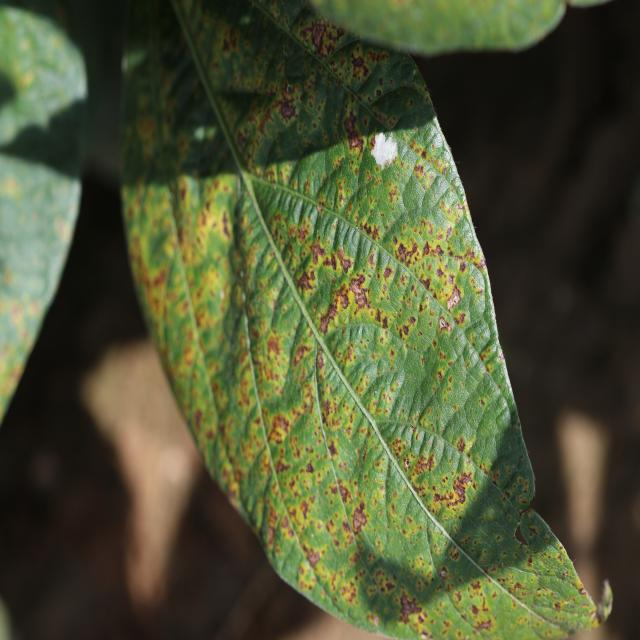Bacterial_Blight: (146, 223, 217, 415), (128, 184, 188, 323), (403, 432, 482, 518), (182, 205, 232, 331), (273, 354, 316, 435), (385, 222, 435, 290), (314, 468, 356, 547), (363, 254, 405, 316), (448, 580, 496, 632), (284, 473, 322, 537), (337, 41, 385, 89), (298, 15, 340, 62), (347, 281, 387, 328), (271, 82, 302, 127), (413, 155, 446, 192), (397, 313, 419, 344), (267, 416, 290, 445), (292, 343, 311, 371), (298, 563, 316, 592), (266, 334, 283, 359), (222, 29, 239, 54), (335, 249, 352, 274), (297, 269, 314, 294), (340, 581, 357, 605), (413, 455, 432, 476), (362, 220, 380, 241), (312, 243, 326, 264), (221, 210, 231, 237), (276, 458, 290, 473), (327, 440, 338, 457), (339, 485, 350, 501), (383, 265, 393, 280)
Soybean: (117, 0, 598, 640)
